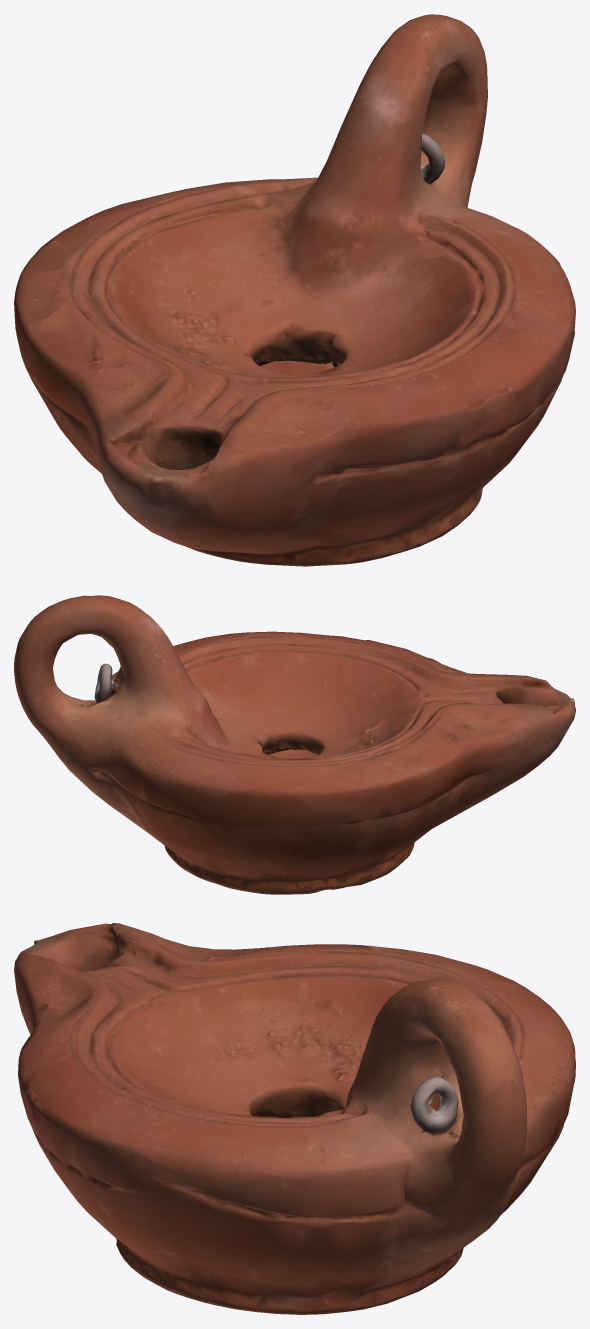
File: baetulo-lucerna.glb
The picture shows the model from 3 angles, top to bottom: view 1: azimuth 30°, elevation 25°; view 2: azimuth 150°, elevation 25°; view 3: azimuth 270°, elevation 25°; orthographic projection. The views are drawn at different scales.
Parts seen in each view (by area): view 1: geometry_0; view 2: geometry_0; view 3: geometry_0.
Part boxes in pixels (<box>): geometry_0: <box>14,14,575,566</box>; geometry_0: <box>14,595,575,894</box>; geometry_0: <box>14,923,575,1314</box>.
Bounding box in the file's own units: 1 × 0.6022 × 0.8615.
1 material, 1 textured.
